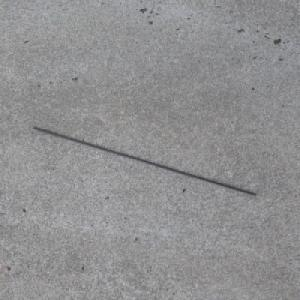LuggagePart: (30, 125, 258, 197)
